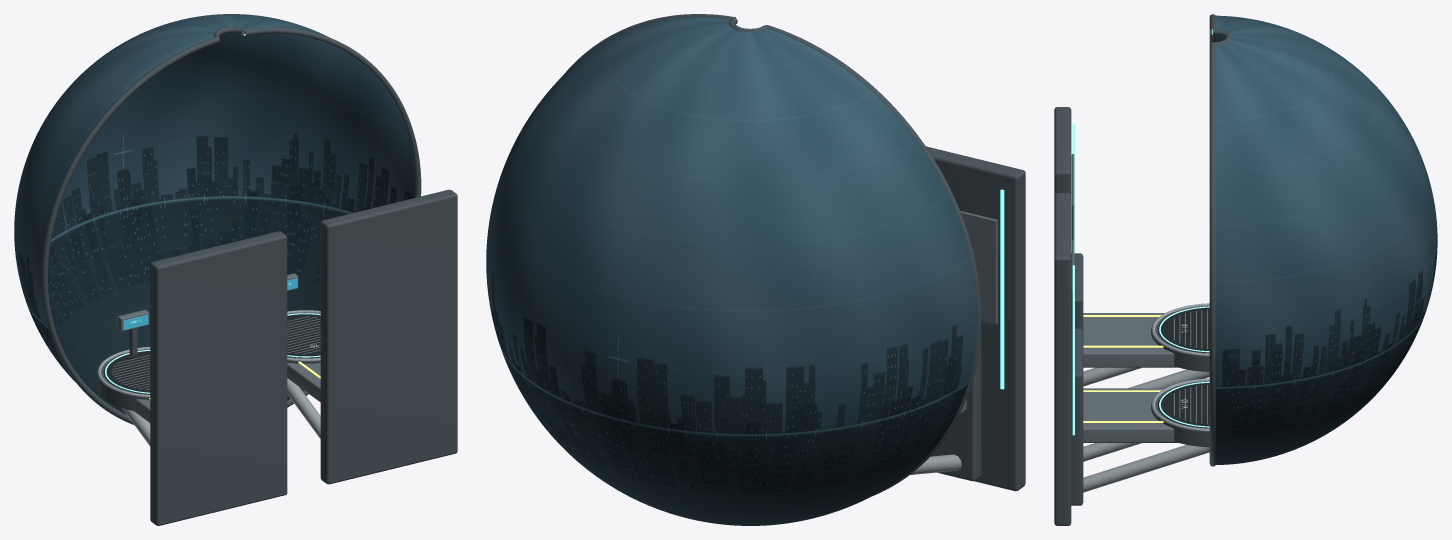
The model's file is Anseong_Cockpit_B_RearDome.fbx.
The picture shows the model from 3 angles, left to right: view 1: azimuth 30°, elevation 25°; view 2: azimuth 150°, elevation 25°; view 3: azimuth 270°, elevation 25°; orthographic projection. The views are drawn at different scales.
Visible parts, largest first — view 1: 10_Display, 09_Hull, 01_Deck, 02_Station_L, 03_Station_R, 04_Console_L; view 2: 10_Display, 09_Hull, 01_Deck; view 3: 10_Display, 01_Deck, 09_Hull, 02_Station_L, 03_Station_R.
Part boxes in pixels (box(x1,y1,x2,y2)): 10_Display: box(14, 14, 421, 425); 09_Hull: box(150, 189, 457, 525); 01_Deck: box(97, 310, 320, 446); 02_Station_L: box(103, 349, 150, 394); 03_Station_R: box(287, 313, 320, 358); 04_Console_L: box(117, 309, 149, 355); 10_Display: box(486, 14, 981, 525); 09_Hull: box(926, 146, 1025, 491); 01_Deck: box(910, 328, 981, 481); 10_Display: box(1209, 14, 1437, 466); 01_Deck: box(1071, 253, 1209, 505); 09_Hull: box(1054, 107, 1074, 525); 02_Station_L: box(1158, 306, 1209, 352); 03_Station_R: box(1158, 381, 1209, 428).
Size of the model in its own units: 5.34 by 5.4 by 4.52.
